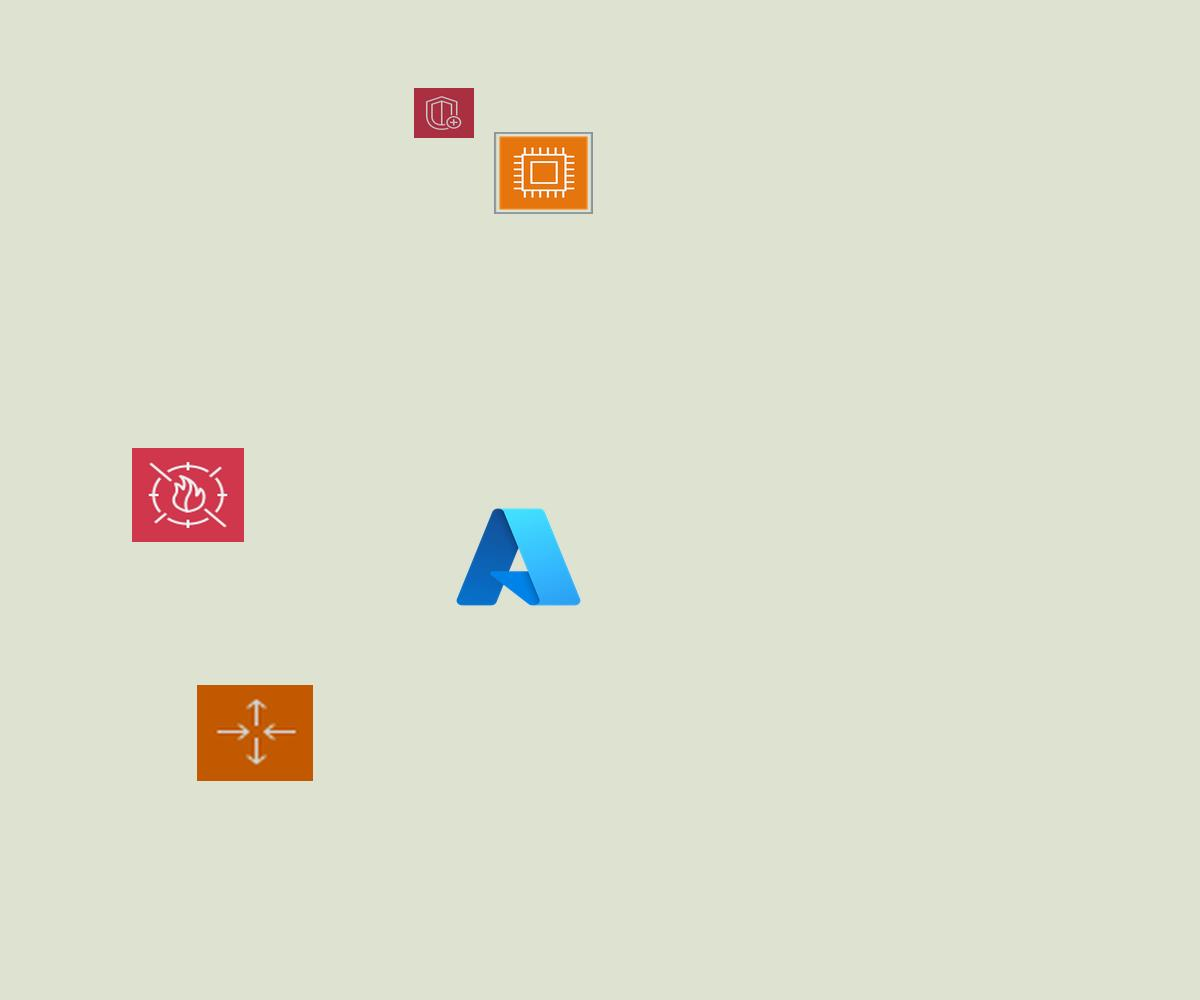AWS-Category_Compute: (494, 132, 593, 214)
AWS-Scaling-group: (197, 685, 313, 781)
AWS-Shield: (414, 88, 474, 138)
AWS-WAF: (132, 448, 244, 542)
Azure_services: (451, 501, 586, 613)
